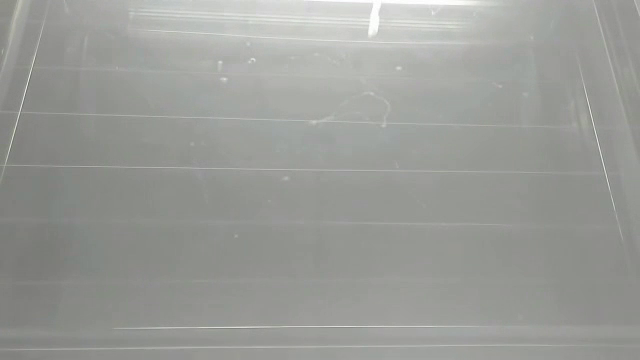alpha: (364, 1, 383, 40)
